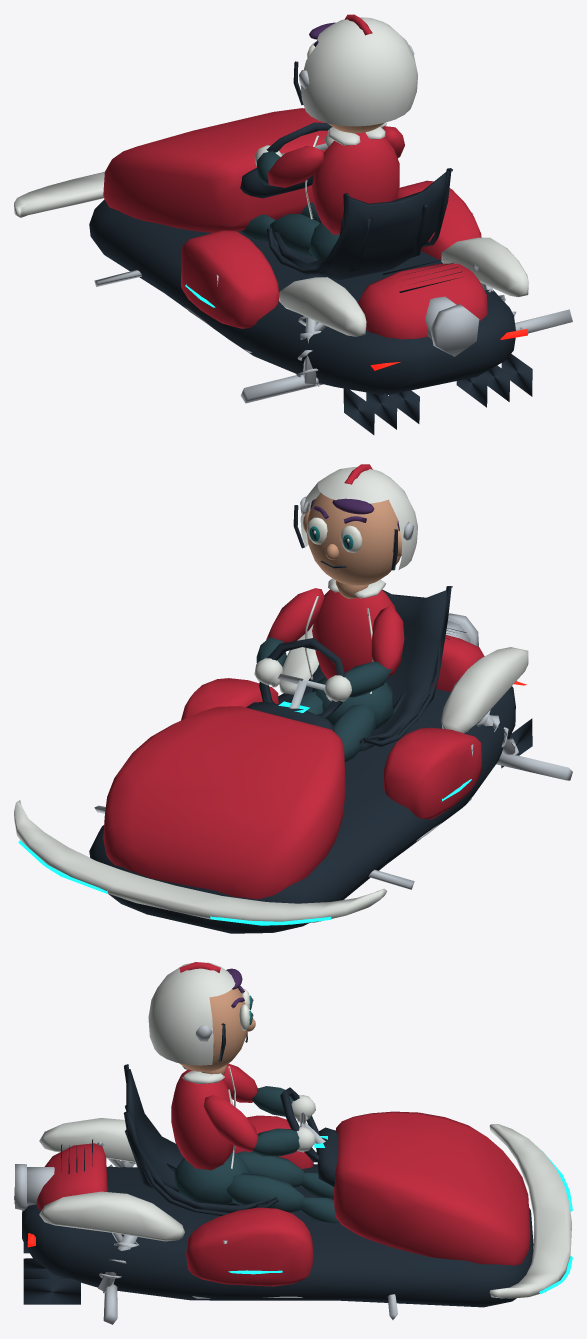
The model's file is kestrel-kart-low-v1.glb.
3 renders of one model, top to bottom at view 1: azimuth 30°, elevation 25°; view 2: azimuth 150°, elevation 25°; view 3: azimuth 270°, elevation 25°, orthographic. The views are drawn at different scales.
Visible parts, largest first — view 1: ContinuousLowerHull, SculptedProw, SweptFrontApron, PodVent-1_0, TailoredTorso, SeatedHip, UpperArm-1; view 2: SculptedProw, ContinuousLowerHull, SweptFrontApron, Neck, TailoredTorso, PodVent-1_0, SeatedHip, UpperArm1, UpperArm-1, InstrumentScreen, Forearm-1, Eyebrow-1 (+3 smaller); view 3: SculptedProw, ContinuousLowerHull, SweptFrontApron, SeatedHip, TailoredTorso, PodVent-1_0, Neck, UpperArm1, Forearm1, UpperArm-1, Forearm-1, InstrumentScreen.
Part boxes in pixels (left/top/right/bottom): ContinuousLowerHull: left=89, top=61, right=532, bottom=434; SculptedProw: left=103, top=14, right=487, bottom=339; SweptFrontApron: left=14, top=17, right=528, bottom=336; PodVent-1_0: left=94, top=45, right=572, bottom=403; TailoredTorso: left=312, top=132, right=399, bottom=234; SeatedHip: left=241, top=202, right=339, bottom=260; UpperArm-1: left=267, top=146, right=323, bottom=187; SculptedProw: left=103, top=464, right=484, bottom=899; ContinuousLowerHull: left=89, top=505, right=532, bottom=933; SweptFrontApron: left=14, top=467, right=528, bottom=925; Neck: left=303, top=493, right=402, bottom=598; TailoredTorso: left=312, top=589, right=395, bottom=679; PodVent-1_0: left=94, top=496, right=572, bottom=889; SeatedHip: left=300, top=677, right=393, bottom=762; UpperArm1: left=266, top=588, right=324, bottom=642; UpperArm-1: left=371, top=605, right=404, bottom=675; InstrumentScreen: left=18, top=701, right=471, bottom=925; Forearm-1: left=345, top=661, right=391, bottom=697; Eyebrow-1: left=310, top=498, right=399, bottom=530; SculptedProw: left=36, top=962, right=530, bottom=1286; ContinuousLowerHull: left=14, top=998, right=533, bottom=1307; SweptFrontApron: left=39, top=962, right=571, bottom=1298; SeatedHip: left=174, top=1151, right=339, bottom=1223; TailoredTorso: left=171, top=1069, right=233, bottom=1170; PodVent-1_0: left=15, top=1025, right=397, bottom=1324; Neck: left=179, top=988, right=255, bottom=1075; UpperArm1: left=203, top=1095, right=258, bottom=1152; Forearm1: left=251, top=1128, right=299, bottom=1156; UpperArm-1: left=223, top=1063, right=257, bottom=1102; Forearm-1: left=252, top=1086, right=292, bottom=1116; InstrumentScreen: left=228, top=1136, right=572, bottom=1293.
Size of the model in its own units: 1.63 by 1.41 by 2.31.
